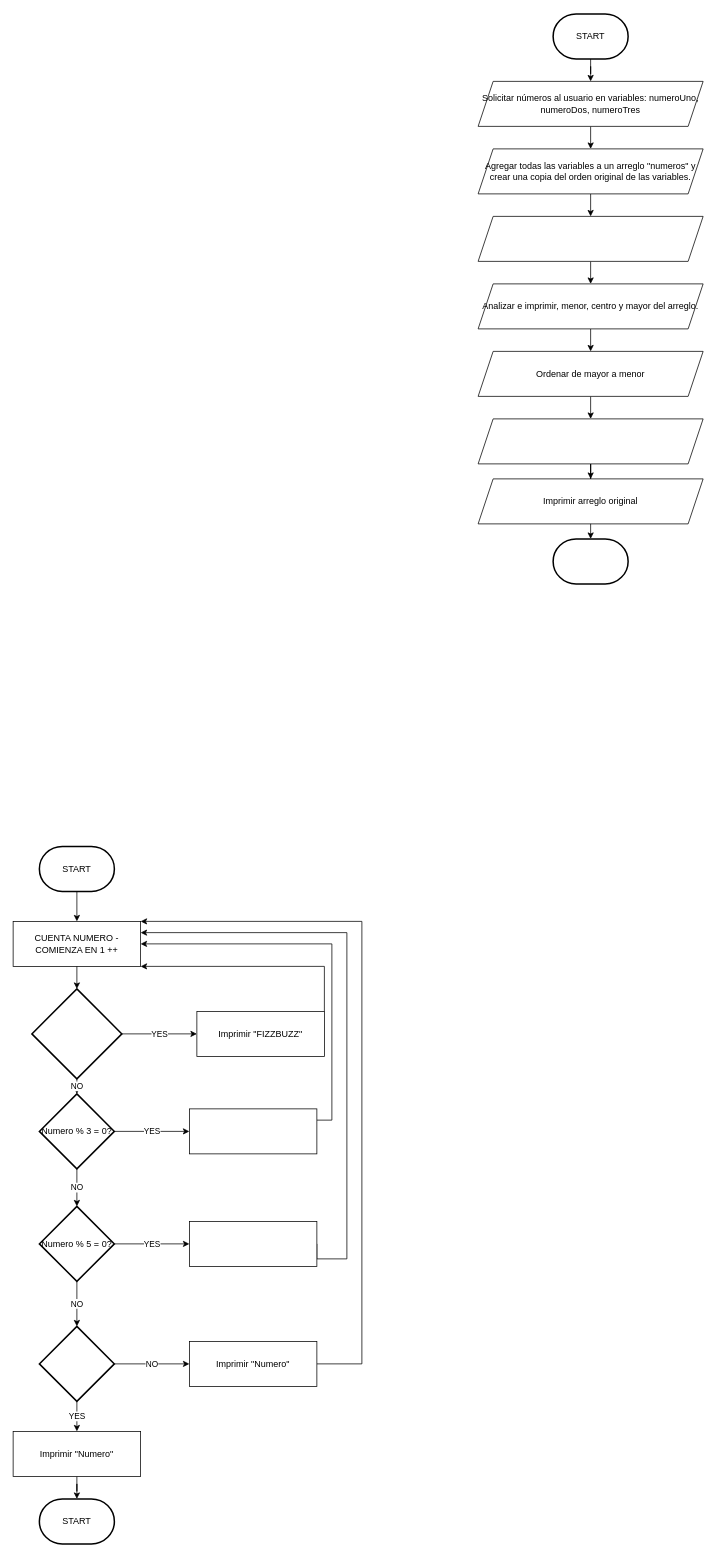
Image size: 716x1557. Some labels were removed from this diagram. The shapes that lost their labels are listed below. From the top down, each one's centre as x and y in pixels, then its label:
(x=590, y=238): Ordenar de menor a mayor
(x=590, y=441): Identificar e imprimir duplicados
(x=590, y=561): FIN
(x=76, y=1033): Numero % 5 = 0 and Numero % 3 = 0?
(x=253, y=1131): Imprimir "Fizz"
(x=253, y=1243): Imprimir "BUZZ"
(x=76, y=1363): Numero == 20?
